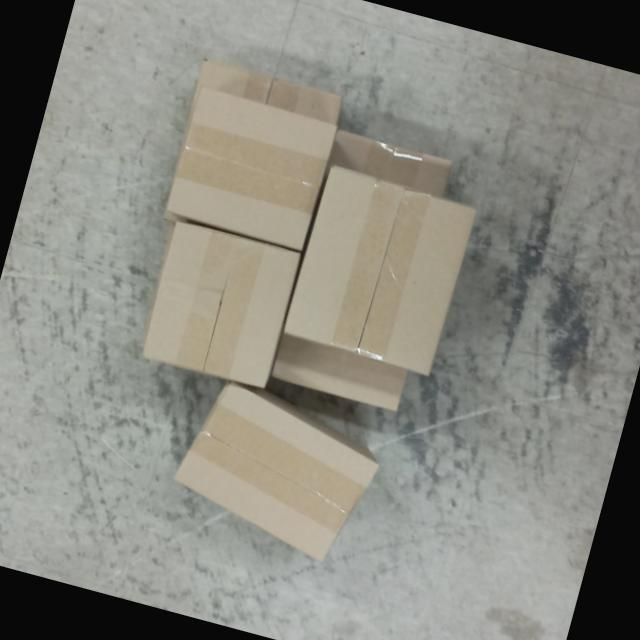box: (156, 369, 398, 578), (275, 158, 486, 384), (160, 77, 343, 255), (132, 214, 306, 396)
